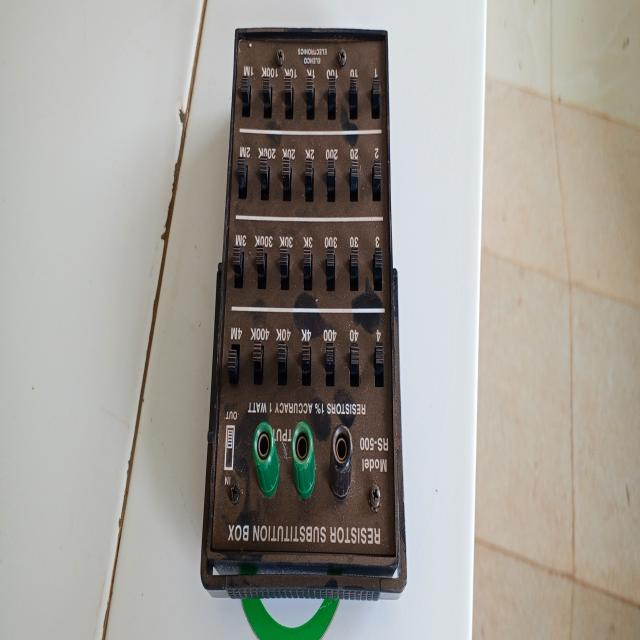Set of Resistances: (197, 13, 421, 610)
